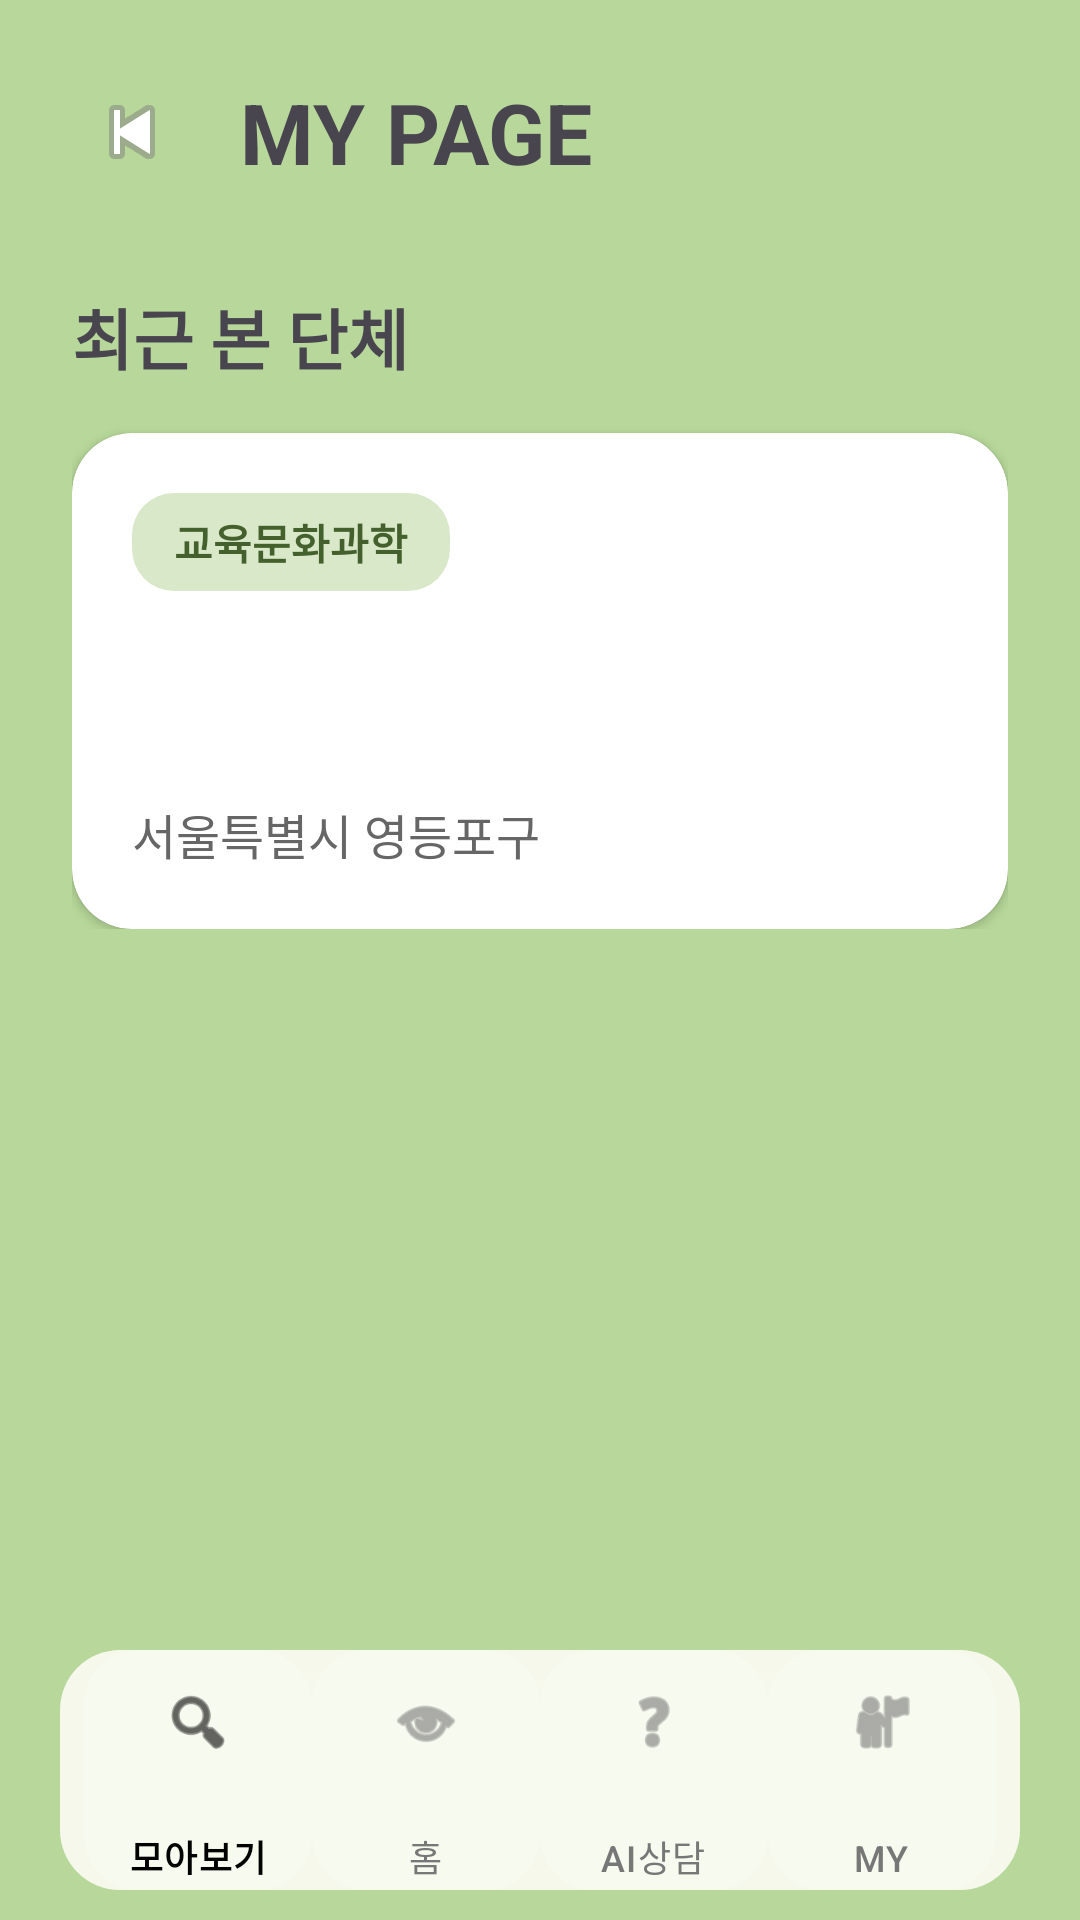

Point at icon controls on the screen. Image size 1080×1920, points as (x,y).
previous: (132,132)
